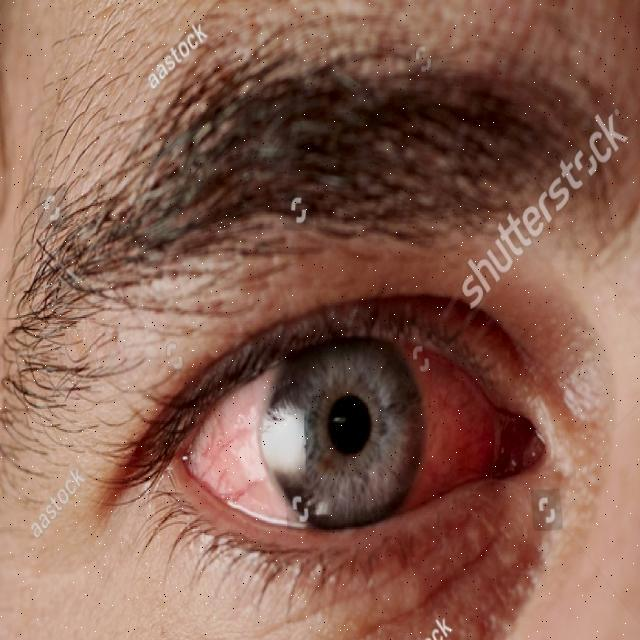Conjunctivitis: (192, 322, 538, 532)
